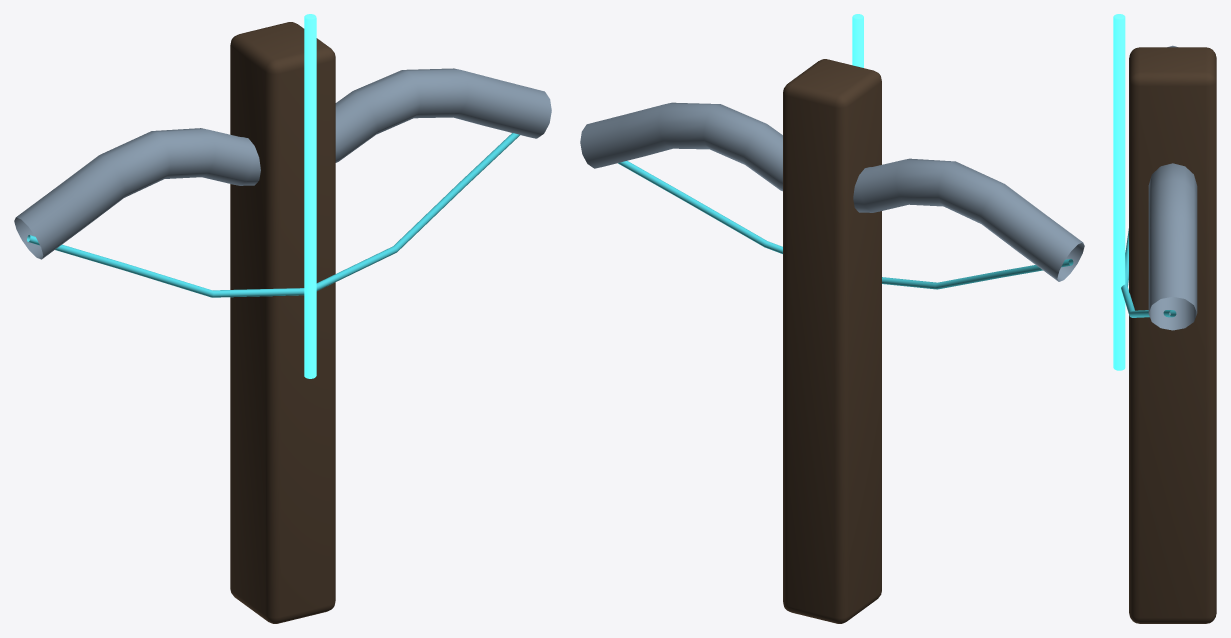
Rendered from bow_v4.glb.
3 views of the same model, side by side, from view 1: azimuth 30°, elevation 25°; view 2: azimuth 150°, elevation 25°; view 3: azimuth 270°, elevation 25° (orthographic). The views are drawn at different scales.
Parts seen in each view (by area): view 1: CROSSBOW_STOCK_SECONDARY, CROSSBOW_LIMB_PRIMARY, CROSSBOW_BOLT_EMISSIVE, CROSSBOW_STRING_ACCENT; view 2: CROSSBOW_STOCK_SECONDARY, CROSSBOW_LIMB_PRIMARY, CROSSBOW_STRING_ACCENT; view 3: CROSSBOW_STOCK_SECONDARY, CROSSBOW_LIMB_PRIMARY, CROSSBOW_BOLT_EMISSIVE, CROSSBOW_STRING_ACCENT.
Boxes of the visible parts, bbox=[...] form: CROSSBOW_STOCK_SECONDARY: bbox=[230, 22, 335, 623]; CROSSBOW_LIMB_PRIMARY: bbox=[14, 68, 551, 259]; CROSSBOW_BOLT_EMISSIVE: bbox=[304, 14, 316, 378]; CROSSBOW_STRING_ACCENT: bbox=[27, 133, 519, 297]; CROSSBOW_STOCK_SECONDARY: bbox=[783, 59, 881, 623]; CROSSBOW_LIMB_PRIMARY: bbox=[580, 102, 1084, 281]; CROSSBOW_STRING_ACCENT: bbox=[618, 161, 1073, 289]; CROSSBOW_STOCK_SECONDARY: bbox=[1129, 47, 1216, 623]; CROSSBOW_LIMB_PRIMARY: bbox=[1148, 45, 1197, 330]; CROSSBOW_BOLT_EMISSIVE: bbox=[1113, 14, 1125, 370]; CROSSBOW_STRING_ACCENT: bbox=[1121, 228, 1176, 317].
Size of the model in its own units: 2.43 by 2.7 by 0.425.
